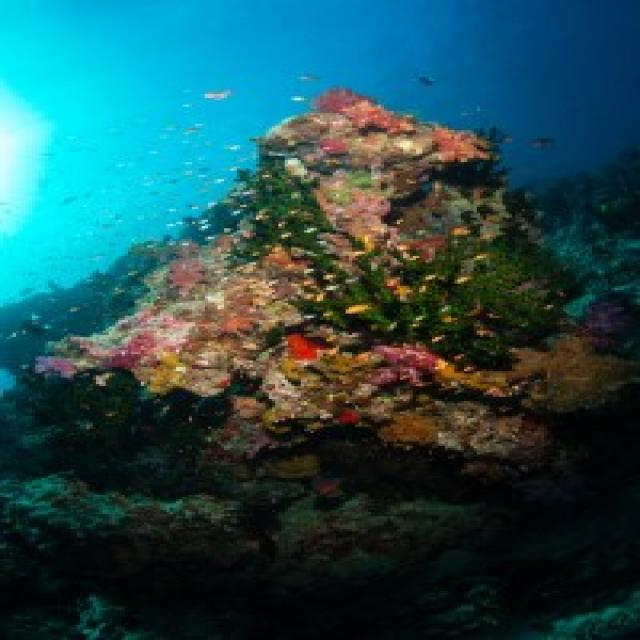Healthy: (215, 347, 548, 470), (289, 231, 574, 370), (257, 88, 491, 253), (36, 238, 279, 396)
